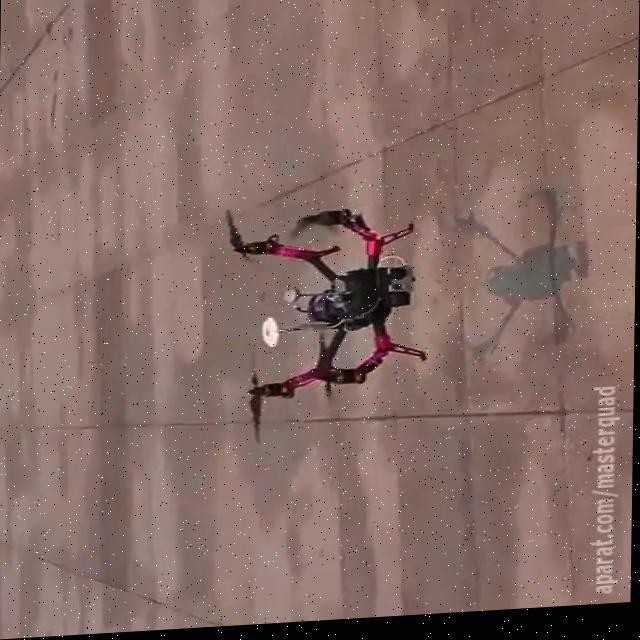drone: (212, 200, 438, 453)
